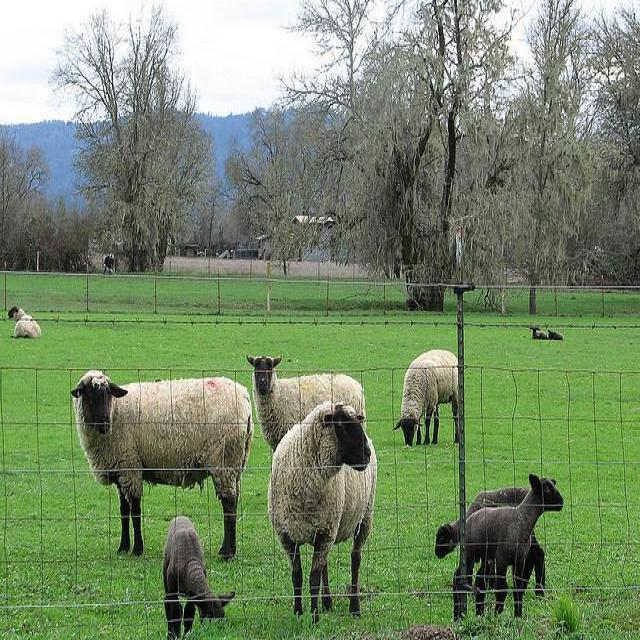Sheep: (71, 370, 254, 562), (270, 397, 380, 622), (453, 467, 567, 628), (434, 488, 546, 616), (244, 354, 368, 453), (159, 508, 247, 628), (393, 350, 460, 448)
